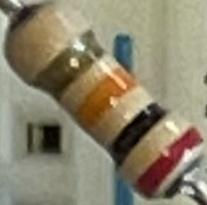Black: (106, 98, 171, 166)
Orange: (70, 64, 141, 134)
Red: (131, 124, 204, 199)
Side-Gold: (28, 25, 108, 101)
